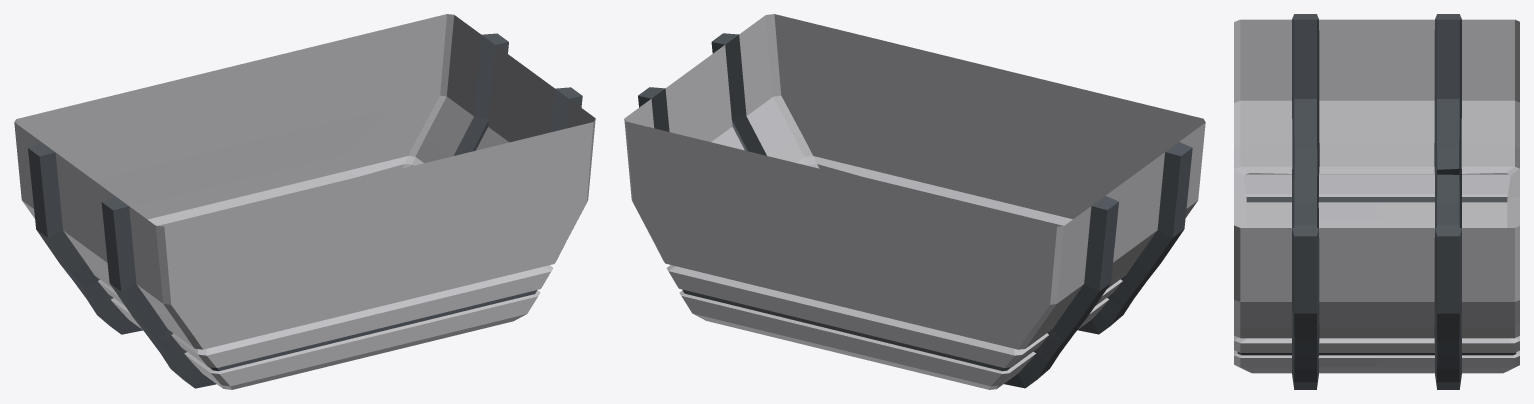
Rendered from Dropship_05_Secondary_Storage.fbx.
3 views of the same model, side by side, from view 1: azimuth 30°, elevation 25°; view 2: azimuth 150°, elevation 25°; view 3: azimuth 270°, elevation 25° (orthographic). The views are drawn at different scales.
Parts seen in each view (by area): view 1: Dropship_05_Secondary_Storage; view 2: Dropship_05_Secondary_Storage; view 3: Dropship_05_Secondary_Storage.
Part boxes in pixels (box(x1,y1,x2,y2)): Dropship_05_Secondary_Storage: box(14, 14, 595, 389); Dropship_05_Secondary_Storage: box(624, 14, 1205, 389); Dropship_05_Secondary_Storage: box(1234, 14, 1519, 389).
Size of the model in its own units: 333 by 136 by 181.
Materials: 1 (1 with a texture image).
